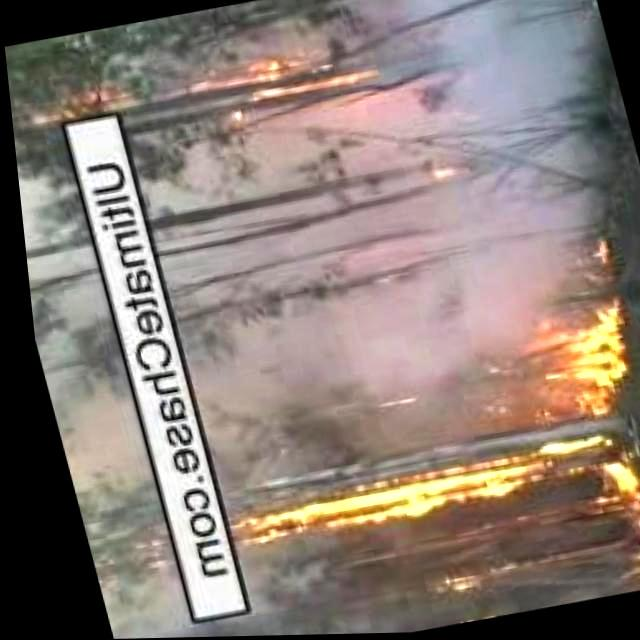fire: (206, 454, 574, 558), (530, 294, 640, 598), (205, 34, 395, 128), (406, 549, 520, 605), (16, 88, 104, 132), (442, 603, 492, 625)
